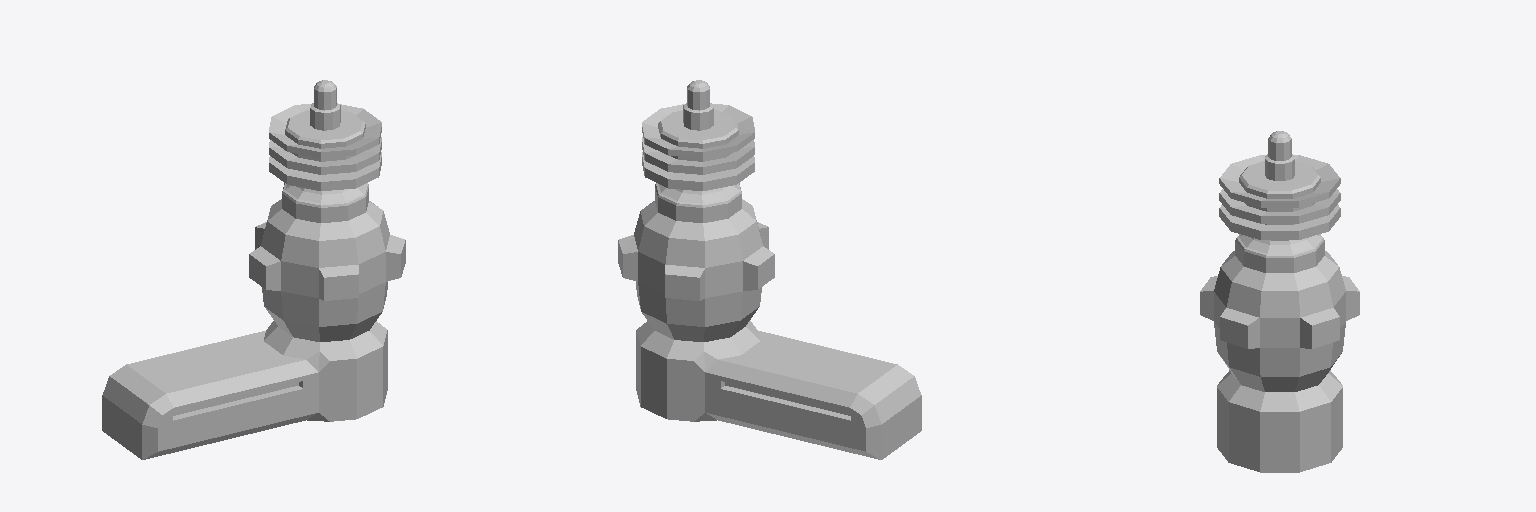
Rendered from machine_2.obj.
3 renders of one model, left to right at view 1: azimuth 30°, elevation 25°; view 2: azimuth 150°, elevation 25°; view 3: azimuth 270°, elevation 25°, orthographic.
Visible parts, largest first — view 1: Cylinder.001_Cylinder.011; view 2: Cylinder.001_Cylinder.011; view 3: Cylinder.001_Cylinder.011.
Part boxes in pixels (x1,y1,x2,y2): Cylinder.001_Cylinder.011: (102, 80, 405, 459); Cylinder.001_Cylinder.011: (618, 80, 921, 459); Cylinder.001_Cylinder.011: (1200, 131, 1359, 472).
Bounding box in the file's own units: 1.82 × 2.04 × 0.94.